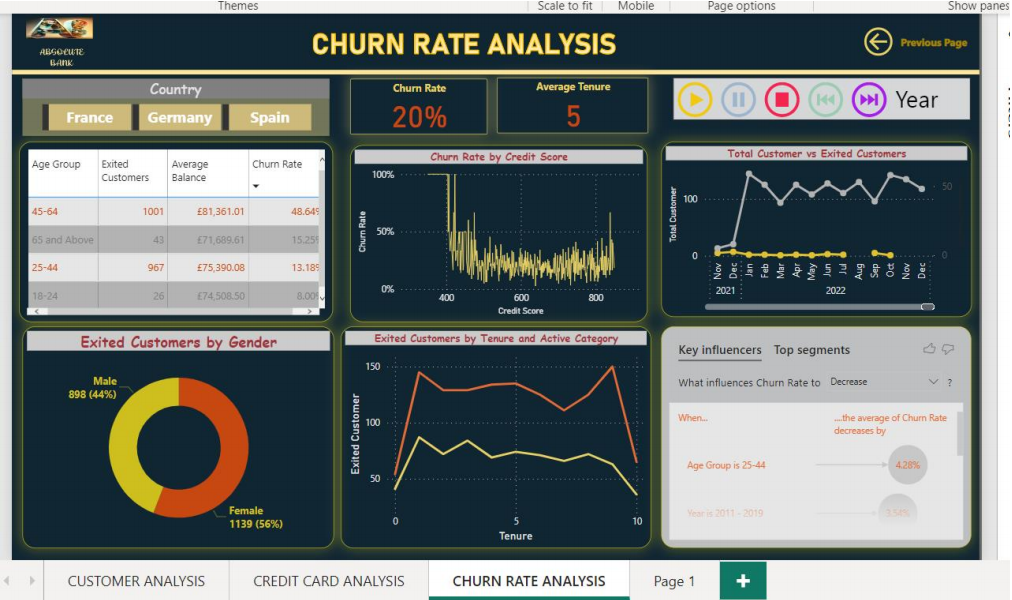

The dashboard page shown, as its layout file describes it:
{"tool":"powerbi","page":{"name":"CHURN RATE ANALYSIS","canvas":[1280,720],"ordinal":2},"visuals":[{"type":"donutChart","title":"Exited Customers by Gender","fields":{"Category":["Gender.Gender Category"],"Y":["All calculations.Exited Customers"]},"box":[14.1,412.9,411.4,292.5],"z":0},{"type":"lineChart","title":"Exited Customers by Tenure and Active Category","fields":{"Y":["All calculations.ExitedCustomers"],"Category":["Churn_Modelling.Tenure"],"Series":["Active Customer.Active Category"]},"box":[434.8,412.9,409.8,292.5],"z":1000},{"type":"card","title":"Churn Rate","fields":{"Values":["All calculations.Churn Rate"]},"box":[447.3,86,181.4,73.5],"z":2000},{"type":"card","title":"Average Tenure","fields":{"Values":["All calculations.Average Tenure of Exited Customer"]},"box":[639.7,84.5,200.2,73.5],"z":3000},{"type":"lineChart","title":"Total Customer vs Exited Customers","fields":{"Category":["Date Master.Year","Date Master.Month Name"],"Y":["All calculations.Total Customer"],"Y2":["All calculations.ExitedCustomers"]},"box":[857.2,168.9,409.8,231.5],"z":4000},{"type":"keyDriversVisual","fields":{"Target":["All calculations.Churn Rate"],"ExplainBy":["All calculations.Average Salary","Churn_Modelling.Credit Score","Churn_Modelling.Number Of Products","Churn_Modelling.Age Group","All calculations.Average Balance","Date Master.Year"],"Details":["Churn_Modelling.Tenure","Date Master.Year"]},"box":[857.4,412.3,409.2,292.1],"z":5000},{"type":"PBI_CV_16948668_E17D_454B_8664_2F2C470EA8C1","fields":{"category":["Date Master.Year","Date Master.Month"]},"box":[872.8,84.5,392.6,56.3],"z":6000},{"type":"tableEx","fields":{"Values":["Churn_Modelling.Age Group","All calculations.Exited Customers","All calculations.Average Balance","All calculations.Churn Rate"]},"box":[9.4,168.9,414.5,237.8],"z":7000},{"type":"slicer","title":"Country","fields":{"Values":["Country.Country Category"]},"box":[14.1,86,405.1,75.1],"z":8000},{"type":"lineChart","fields":{"Category":["Churn_Modelling.Credit Score"],"Y":["All calculations.Churn Rate"]},"box":[447.3,173.6,392.6,233.1],"z":9000},{"type":"actionButton","box":[1119.9,12.5,145.5,48.5],"z":10000}]}

Visuals, with their boxes on the page's 1280x720 design canvas (x1, y1, x2, y2). These are canvas units, not pixel positions in the 1012x600 screenshot, which may show the page scaled, cropped or inside an application window:
"Exited Customers by Gender" donutChart: left=14, top=413, right=426, bottom=705
"Exited Customers by Tenure and Active Category" lineChart: left=435, top=413, right=845, bottom=705
"Churn Rate" card: left=447, top=86, right=629, bottom=160
"Average Tenure" card: left=640, top=84, right=840, bottom=158
"Total Customer vs Exited Customers" lineChart: left=857, top=169, right=1267, bottom=400
keyDriversVisual - All calculations.Churn Rate x All calculations.Average Salary: left=857, top=412, right=1267, bottom=704
PBI_CV_16948668_E17D_454B_8664_2F2C470EA8C1 - Date Master.Year x Date Master.Month: left=873, top=84, right=1265, bottom=141
tableEx - Churn_Modelling.Age Group x All calculations.Exited Customers: left=9, top=169, right=424, bottom=407
"Country" slicer: left=14, top=86, right=419, bottom=161
lineChart - Churn_Modelling.Credit Score x All calculations.Churn Rate: left=447, top=174, right=840, bottom=407
actionButton: left=1120, top=12, right=1265, bottom=61
